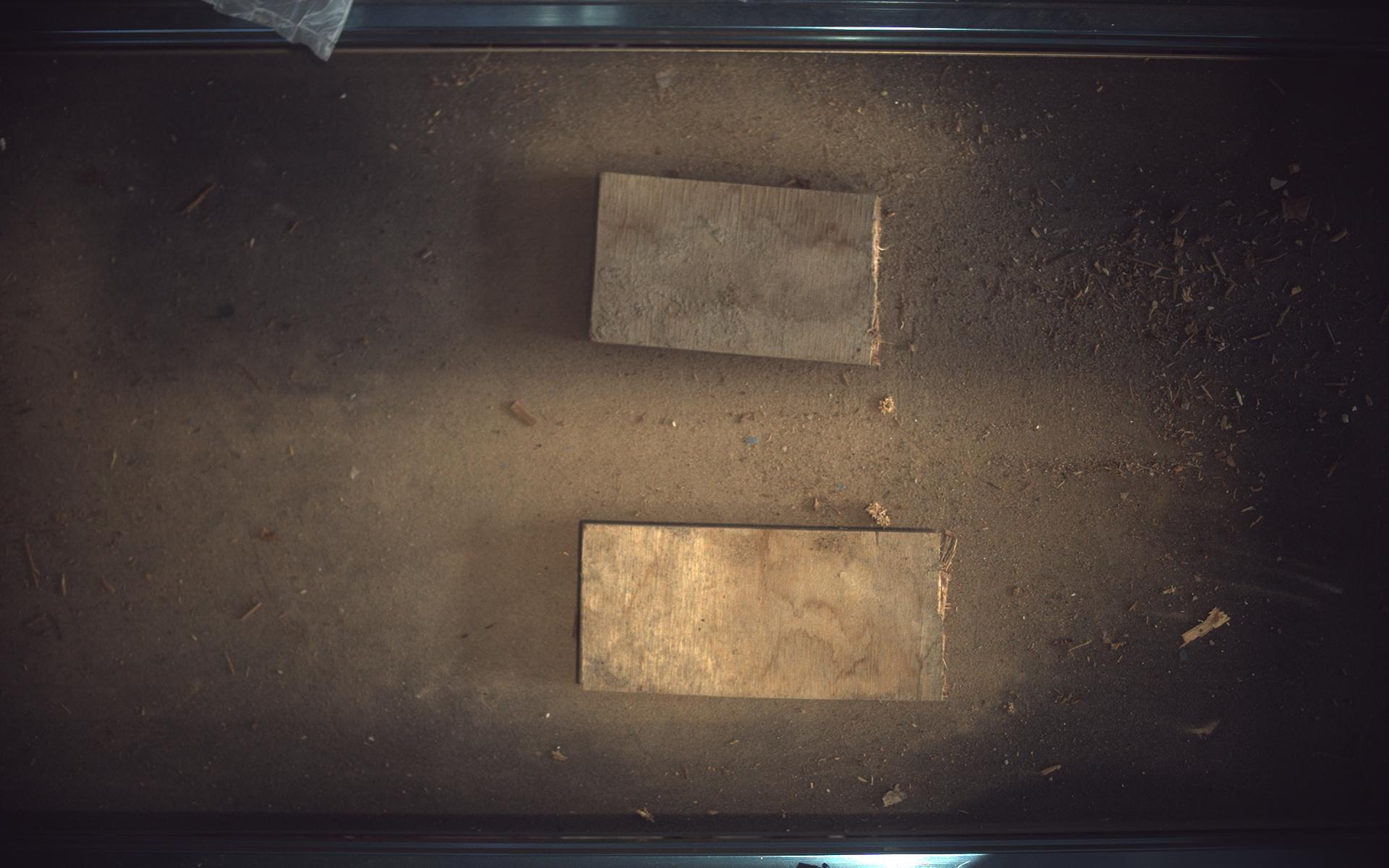wood: (579, 524, 955, 702), (591, 171, 883, 365)
